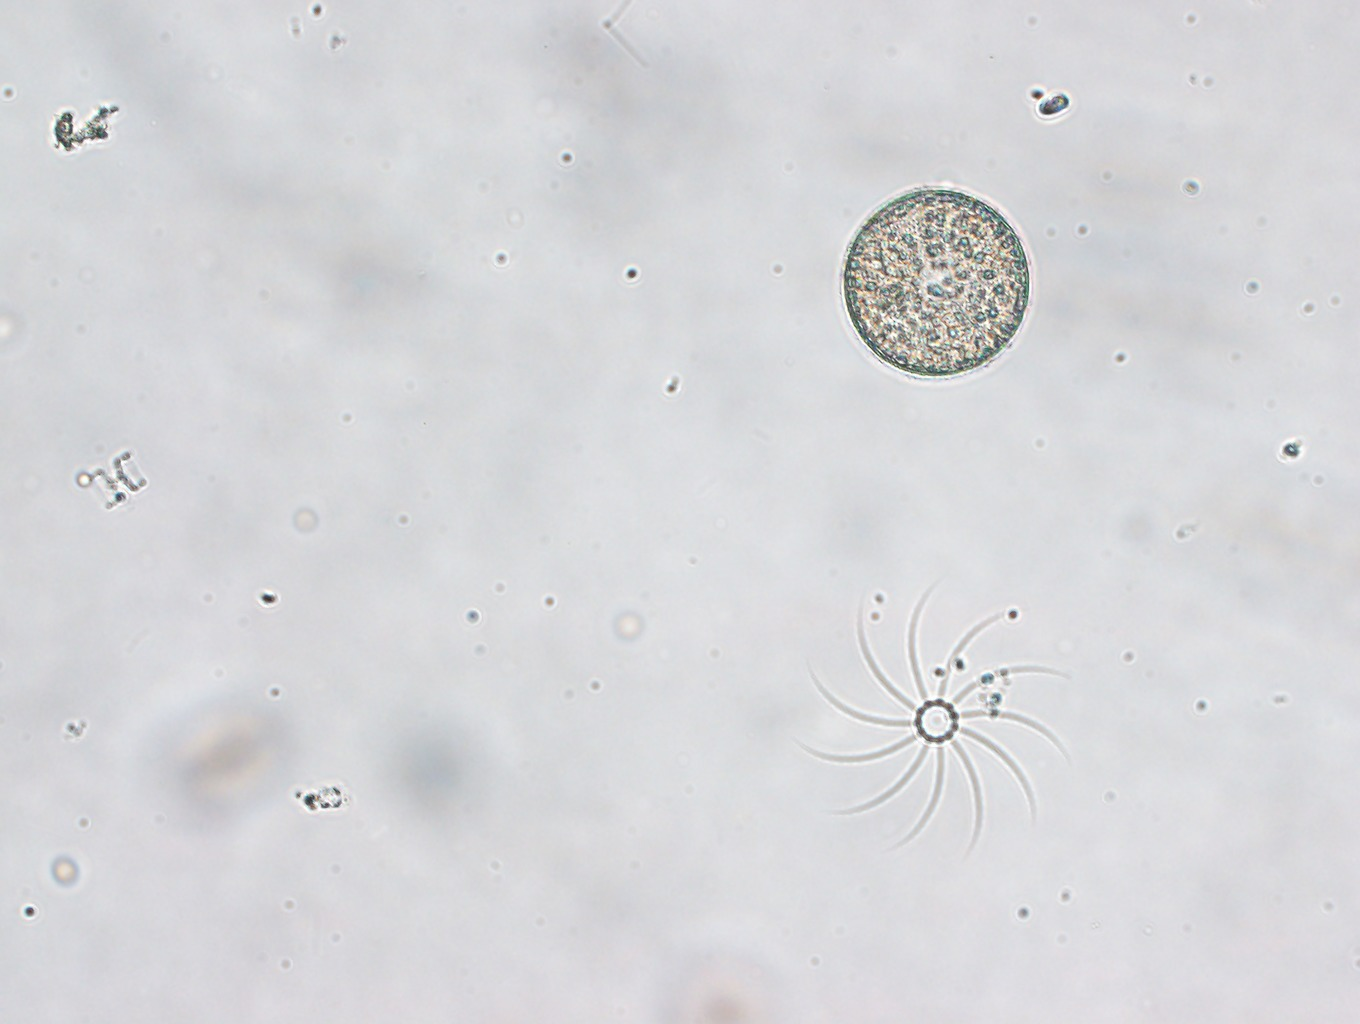bacteriastrum: (801, 580, 1070, 856)
coscinodiscus: (842, 187, 1030, 376)
